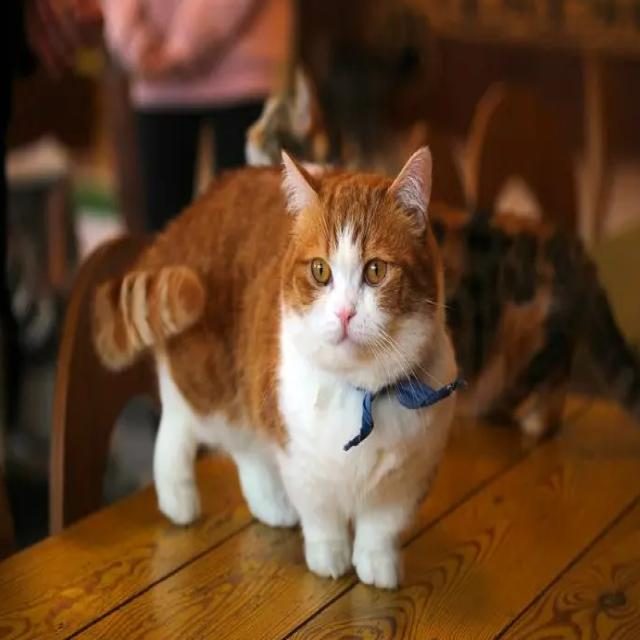Munchkin: (90, 140, 462, 586)
